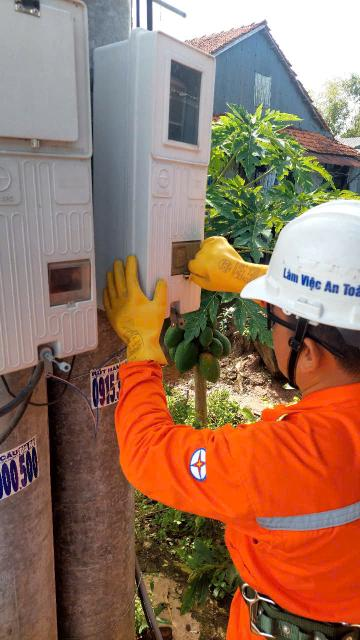gloves: (101, 248, 185, 379), (170, 228, 292, 302)
helmet: (238, 208, 360, 355)
